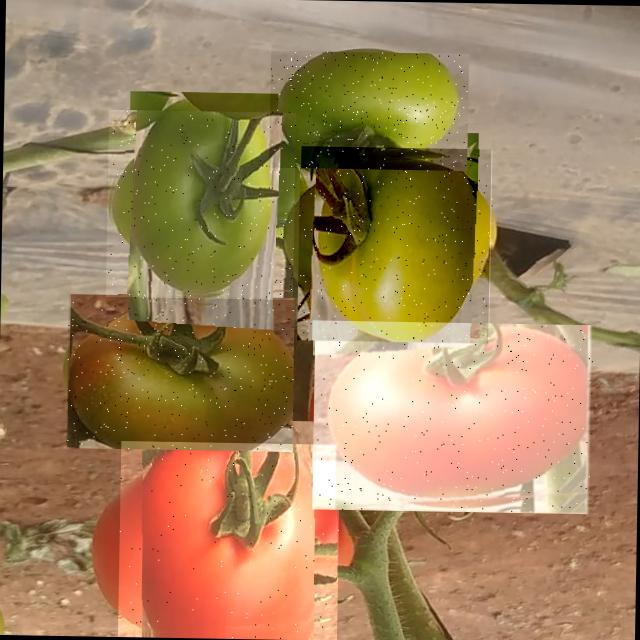Ripe Tomato: (312, 320, 594, 514), (117, 440, 339, 640)
Unripe Tomato: (298, 146, 494, 343), (66, 294, 295, 452), (106, 110, 296, 300), (268, 51, 468, 170)
